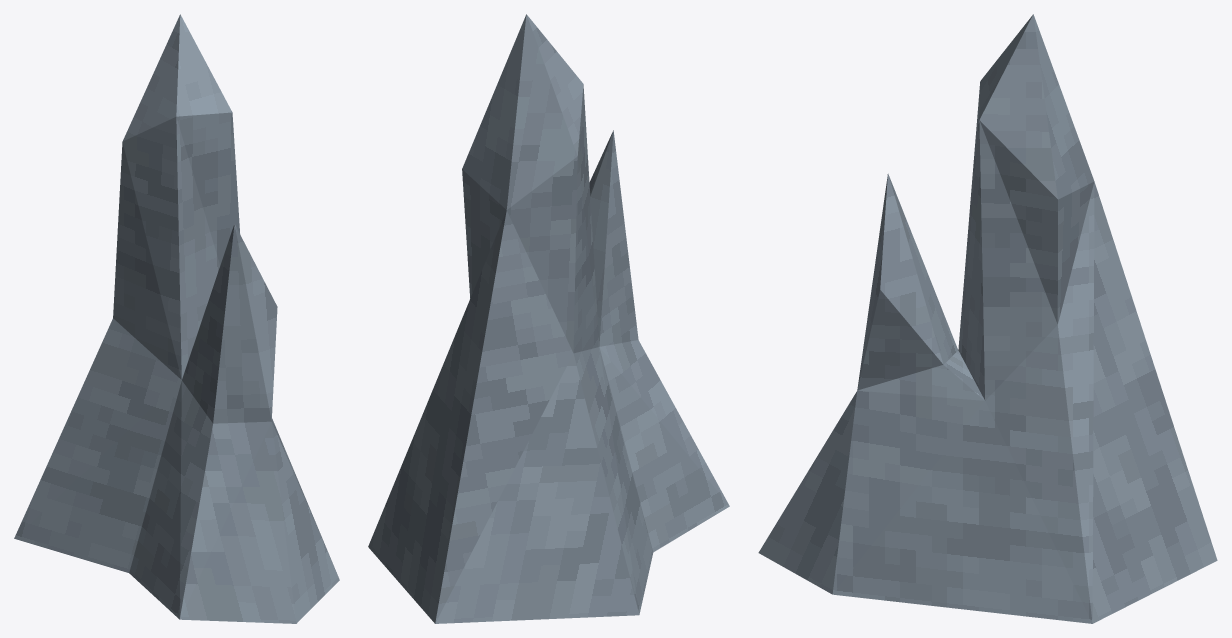
Rendered from stalagmite1.obj.
3 views of the same model, side by side, from view 1: azimuth 30°, elevation 25°; view 2: azimuth 150°, elevation 25°; view 3: azimuth 270°, elevation 25° (orthographic). The views are drawn at different scales.
Parts seen in each view (by area): view 1: Geoset_000; view 2: Geoset_000; view 3: Geoset_000.
Part boxes in pixels (bbox=[...]): Geoset_000: bbox=[14, 14, 339, 623]; Geoset_000: bbox=[368, 14, 729, 623]; Geoset_000: bbox=[758, 14, 1217, 623].
Bounding box in the file's own units: 2.53 × 4.8 × 3.65.
